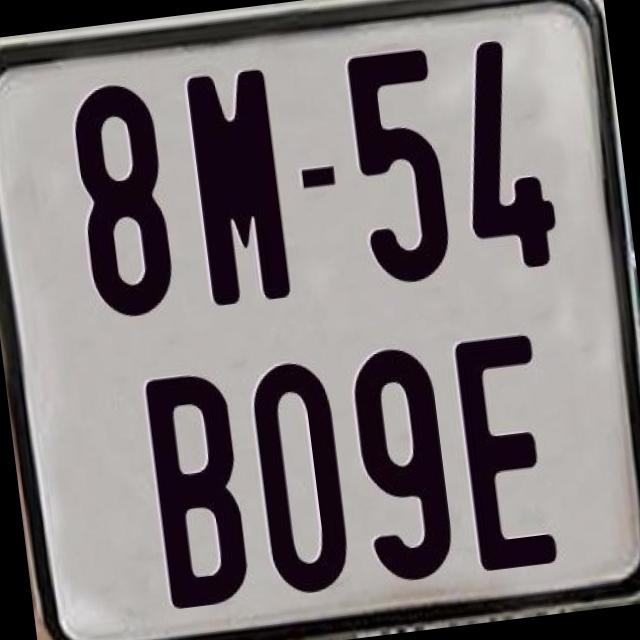0: (246, 355, 358, 601)
4: (450, 35, 564, 278)
5: (341, 43, 452, 288)
8: (67, 80, 176, 330)
9: (348, 340, 464, 588)
B: (140, 366, 247, 608)
E: (451, 328, 562, 566)
M: (181, 63, 296, 310)
